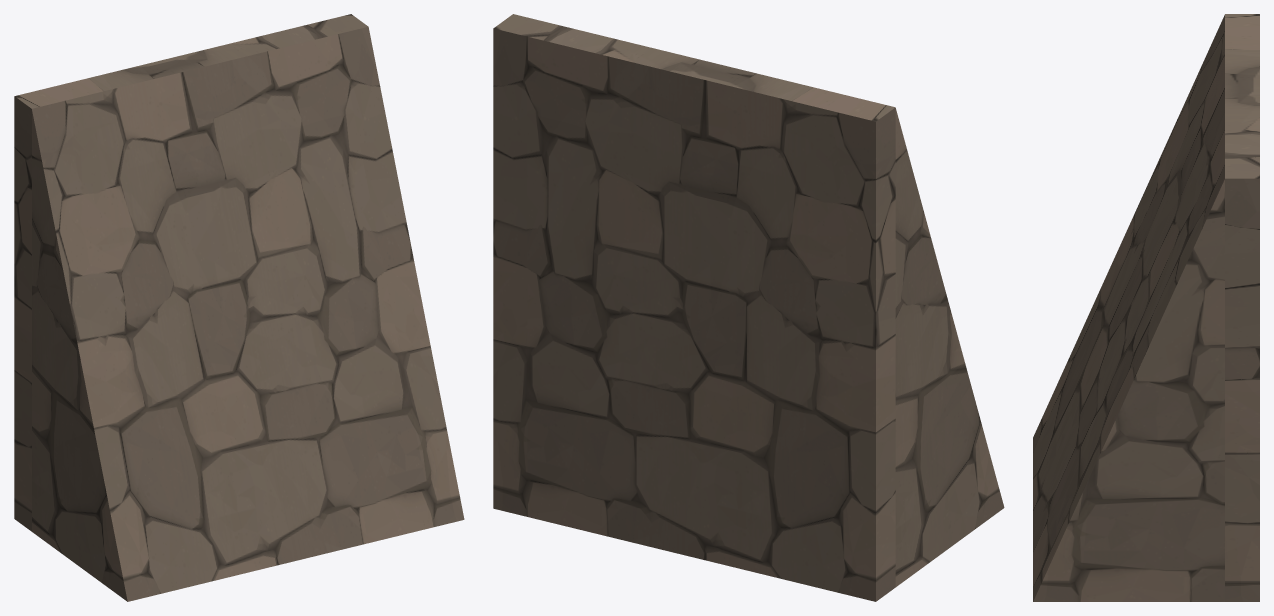
Rendered from SM_Bld_Wall_Slope_02.fbx.
The picture shows the model from 3 angles, left to right: view 1: azimuth 30°, elevation 25°; view 2: azimuth 150°, elevation 25°; view 3: azimuth 270°, elevation 25°; orthographic projection. The views are drawn at different scales.
Parts seen in each view (by area): view 1: SM_Bld_Wall_Slope_02; view 2: SM_Bld_Wall_Slope_02; view 3: SM_Bld_Wall_Slope_02.
Part boxes in pixels (x1=…): SM_Bld_Wall_Slope_02: x1=14, y1=14, x2=464, y2=601; SM_Bld_Wall_Slope_02: x1=493, y1=14, x2=1004, y2=601; SM_Bld_Wall_Slope_02: x1=1033, y1=14, x2=1259, y2=601.
Size of the model in its own units: 250 by 300 by 146.
1 material, 1 textured.
